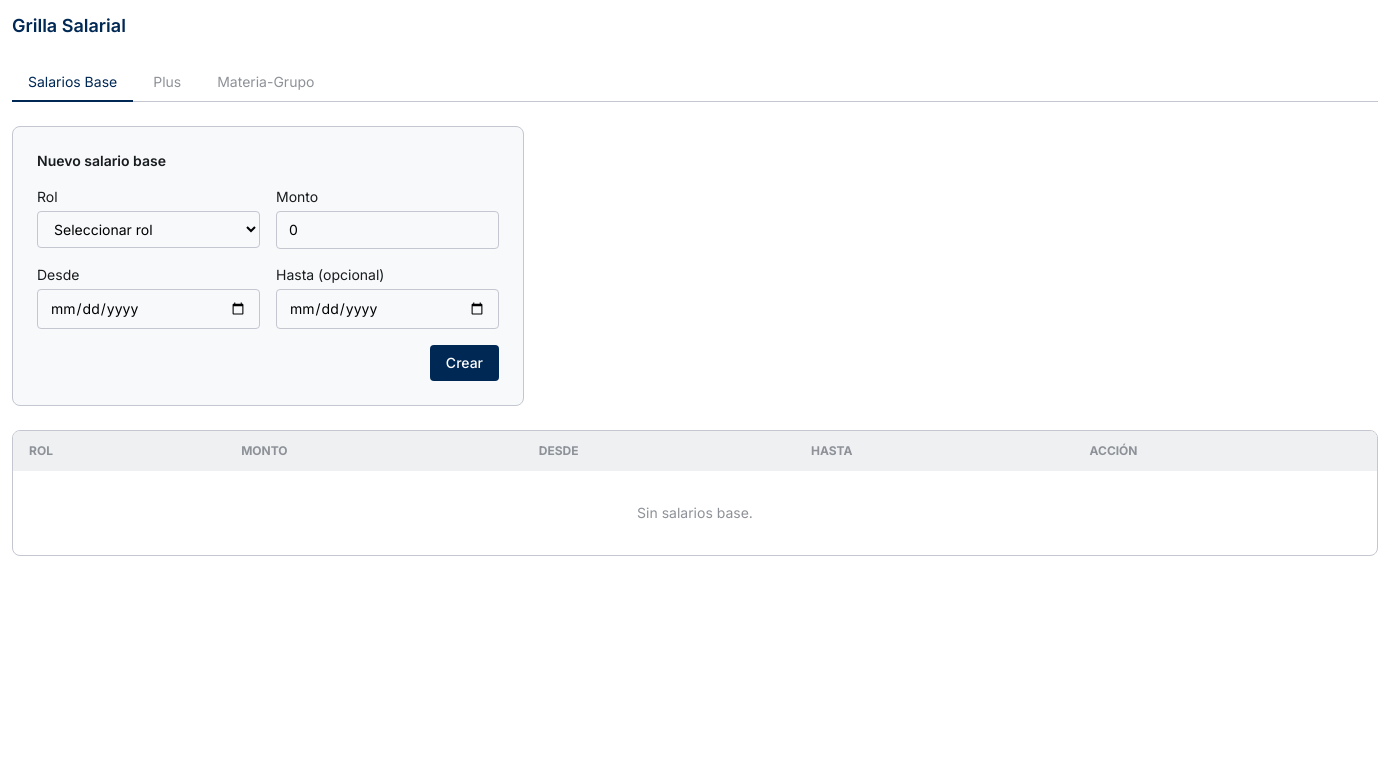
it: GrillaSalarialPage › permite cambiar a pestaña plus
Click the button "Plus". click: (167, 83)
box: [137,64,197,102]
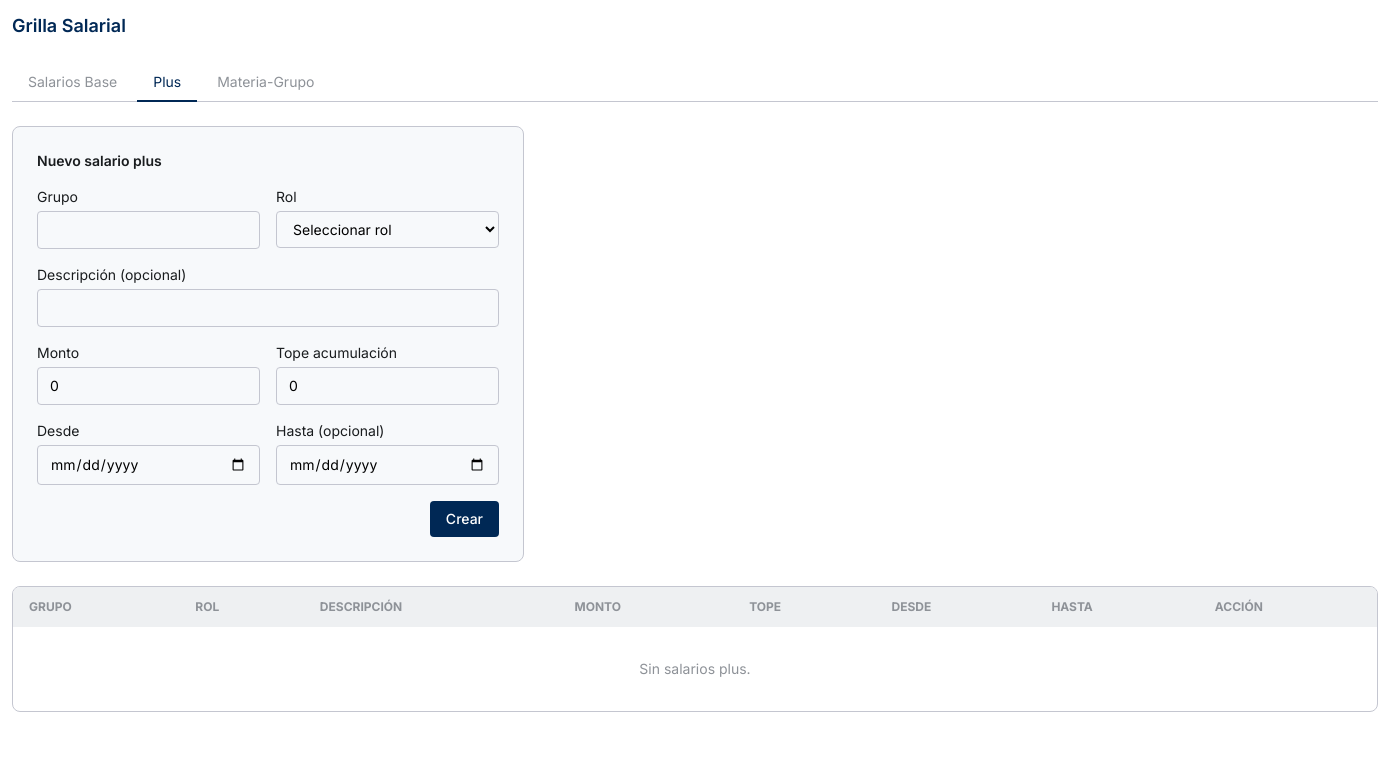
Check: the field labelled "Grupo" is shown, box [37,211,260,249]
Check: the heading "Nuevo salario plus" is shown, box [37,152,162,169]
